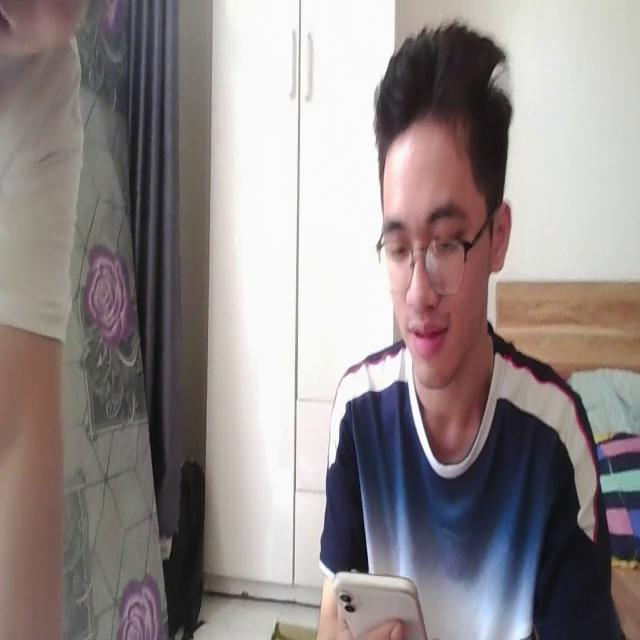phone: (331, 558, 427, 640)
student: (326, 13, 616, 640)
